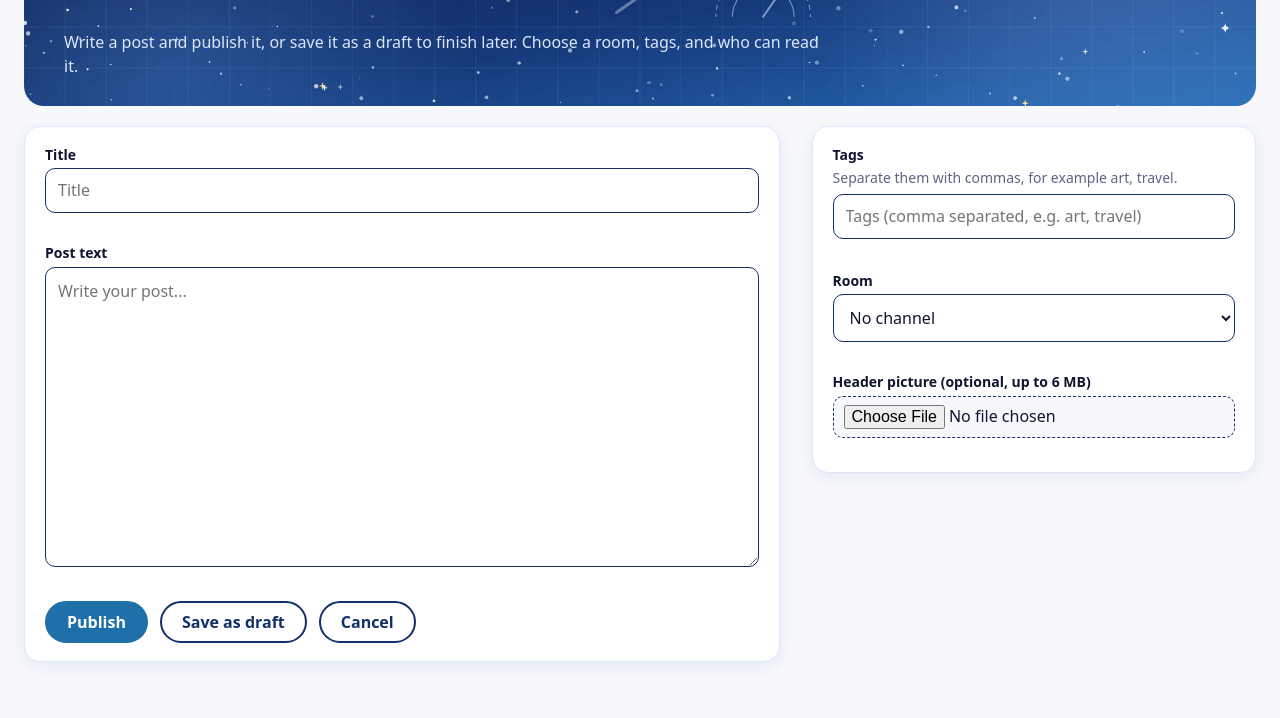
Scenario: New post › does not publish an empty post, and says what is missing, in words, once for each thing
This screenshot has width=1280, height=718.
(page scrolled)
Click the button "Publish".
click(96, 622)  # box x1=45 y1=601 x2=148 y2=643
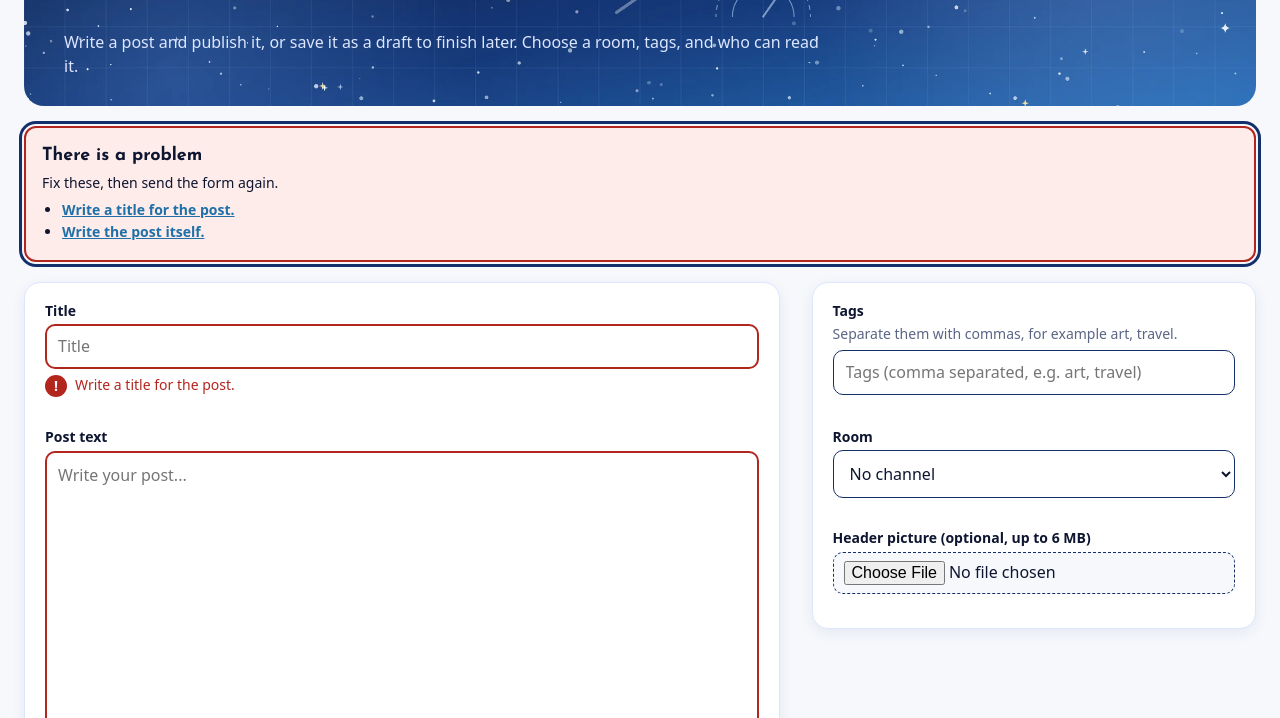
expect the message shows "Write a title for the post.": met, box x1=62 y1=200 x2=234 y2=219
expect the message shows "Write the post itself.": met, box x1=62 y1=222 x2=204 y2=241
